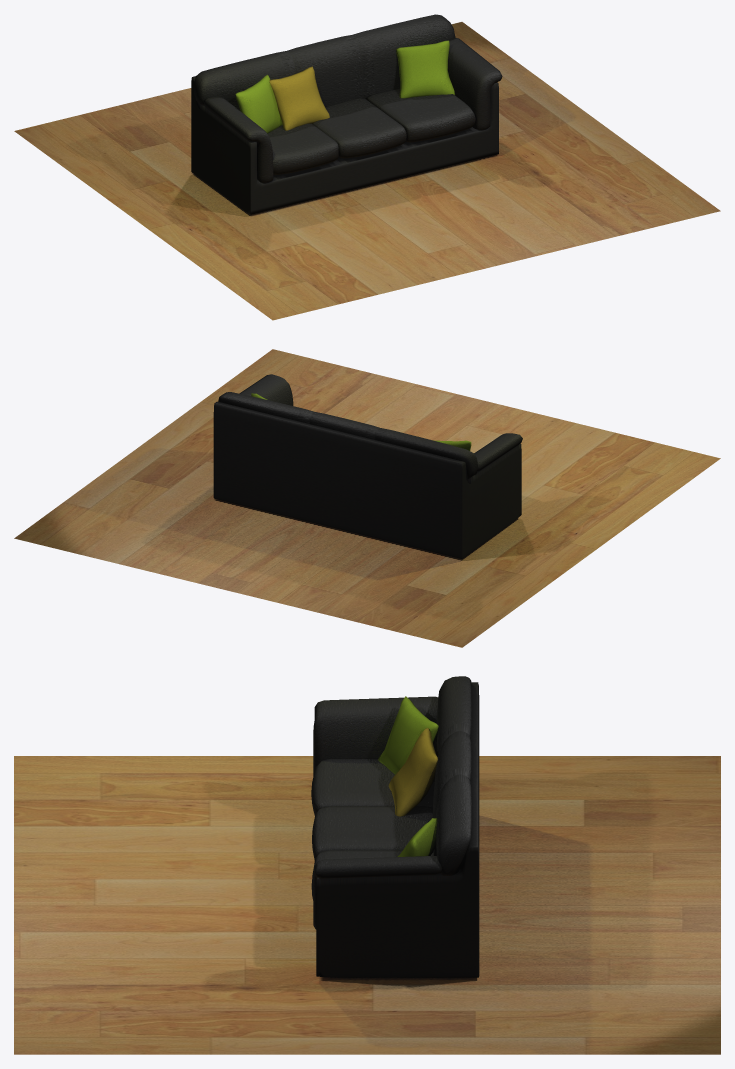
The model's file is leather_black_sofa.glb.
3 views of the same model, one above another, from view 1: azimuth 30°, elevation 25°; view 2: azimuth 150°, elevation 25°; view 3: azimuth 270°, elevation 25° (orthographic). The views are drawn at different scales.
Parts seen in each view (by area): view 1: floor, cushions, sofa, pillows (×2); view 2: floor, sofa, cushions; view 3: floor, cushions, sofa, pillows (×2).
Part boxes in pixels (bbox=[...]): floor: bbox=[14, 22, 720, 320]; cushions: bbox=[194, 14, 502, 182]; sofa: bbox=[191, 76, 498, 214]; pillows (×2): bbox=[235, 40, 455, 133]; floor: bbox=[14, 349, 720, 647]; sofa: bbox=[213, 401, 521, 558]; cushions: bbox=[218, 374, 522, 478]; floor: bbox=[14, 756, 720, 1054]; cushions: bbox=[311, 676, 471, 929]; sofa: bbox=[316, 682, 479, 977]; pillows (×2): bbox=[378, 696, 438, 856].
Bounding box in the file's own units: 6.31 × 1.43 × 6.31.
5 materials, 5 textured.
